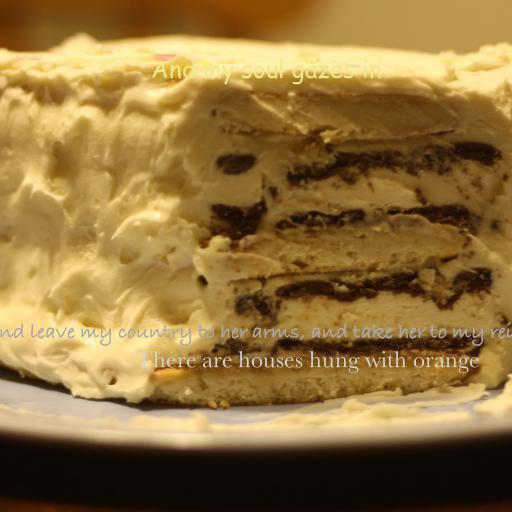Baskerville: (136, 351, 480, 374)
Bradley Hand: (0, 322, 512, 346)
Comic Sans MS: (150, 58, 382, 85)
